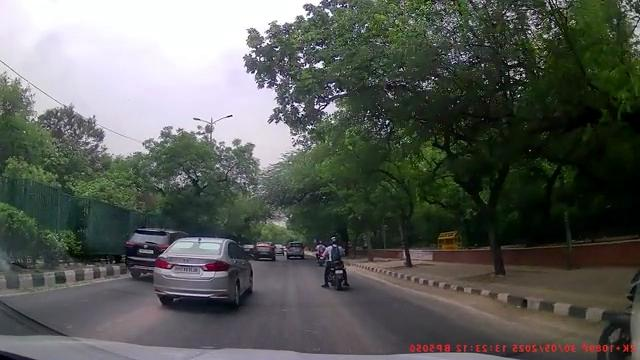motorcycle_with_helmet: (319, 236, 351, 290)
